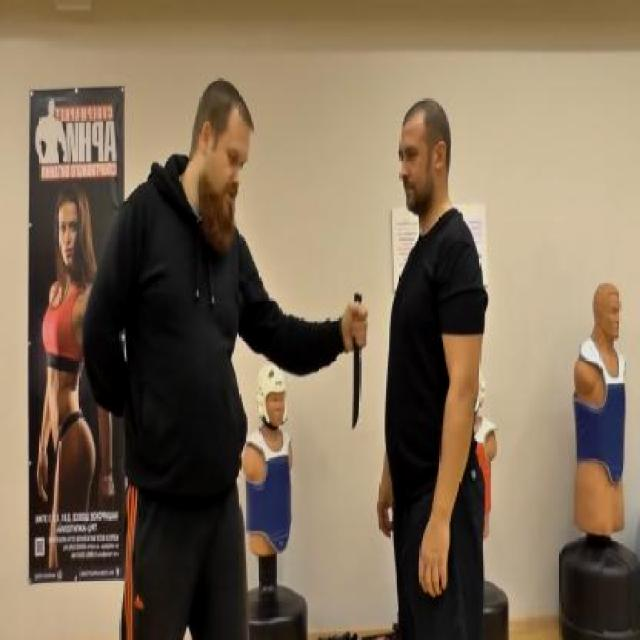knife: (348, 286, 372, 432)
